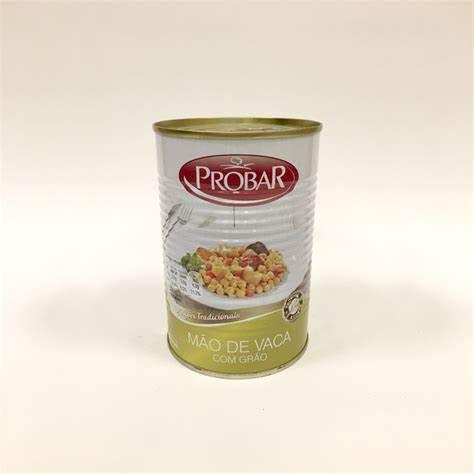metal: (154, 118, 322, 378)
